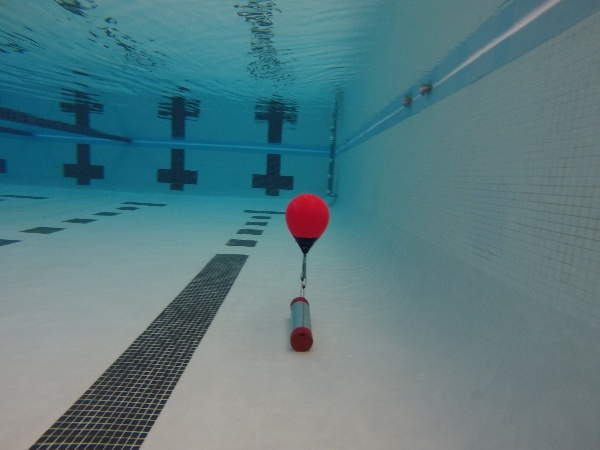buoy_red: (281, 189, 333, 258)
